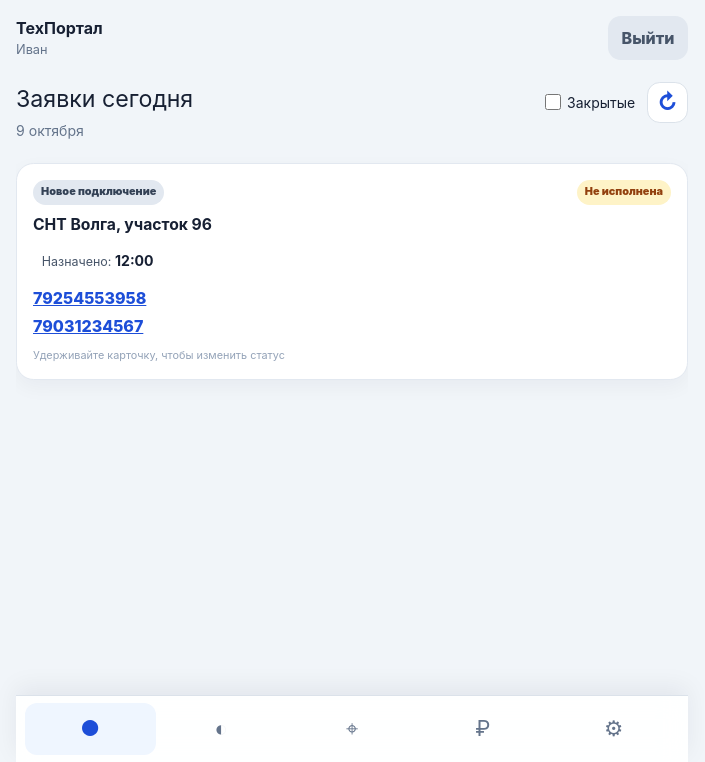
Scenario: Заявки › долгим нажатием открывает форму отчёта подключения
The width and height of the screenshot is (705, 762).
Step 1. Press the mouse on the button "СНТ Волга" → coordinates (99, 192), box [16,163,688,380]
Wait 600 ms
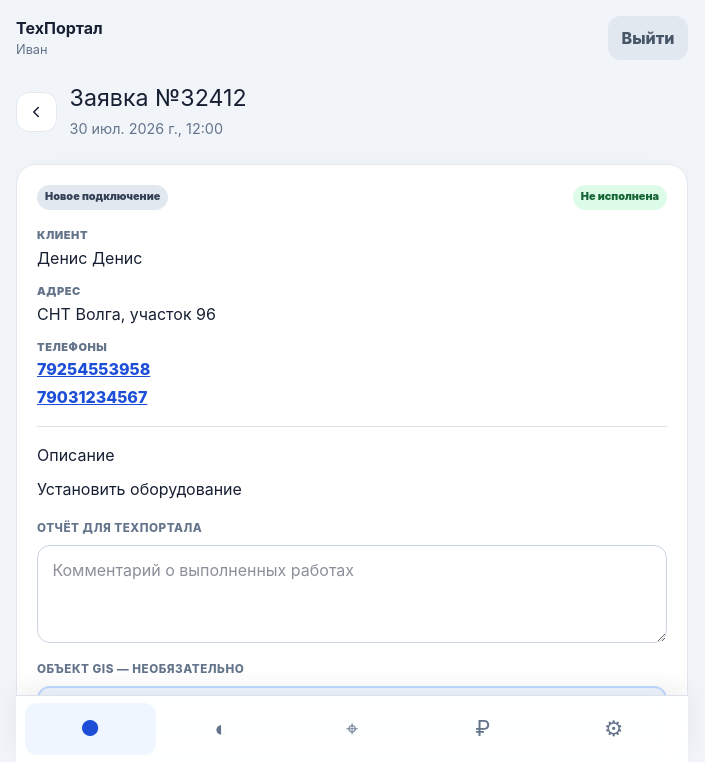
Now the heading "Заявка №32412" is shown, box [70,84,246,113]
Now the text box labelled "Отчёт для ТехПортала" is shown, box [37,544,667,643]
